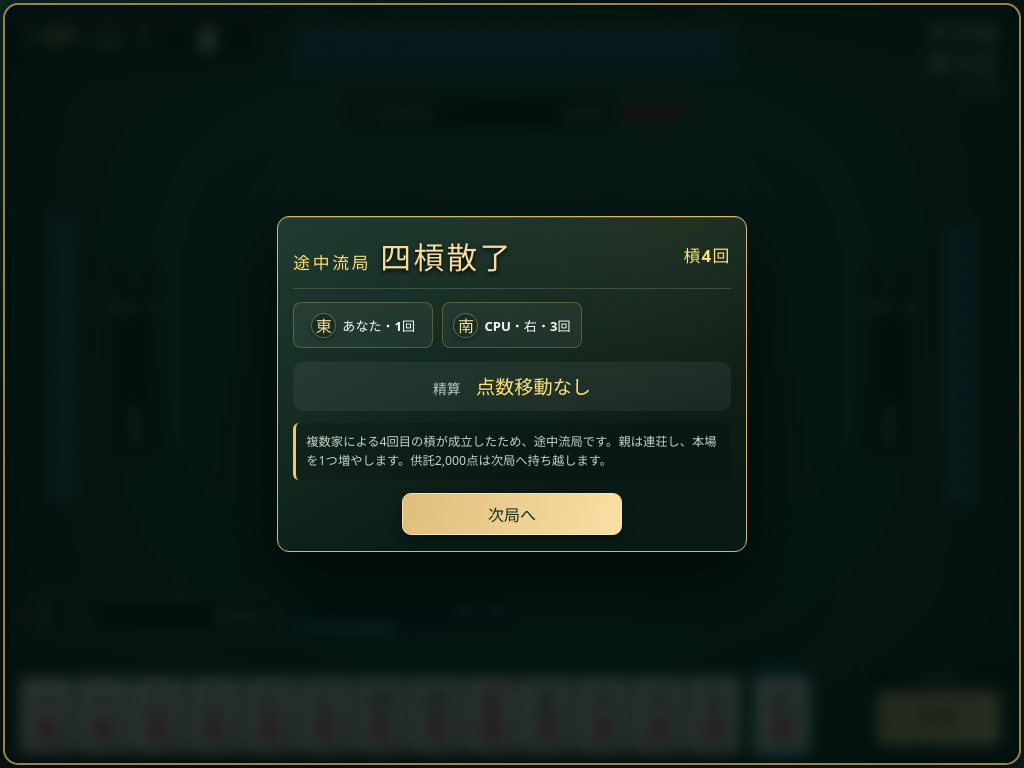
Test: 四槓散了の結果画面 › 次局へ進むと結果画面を閉じて連荘する
Click the button "次局へ". click: (512, 514)
box: [402,493,622,535]
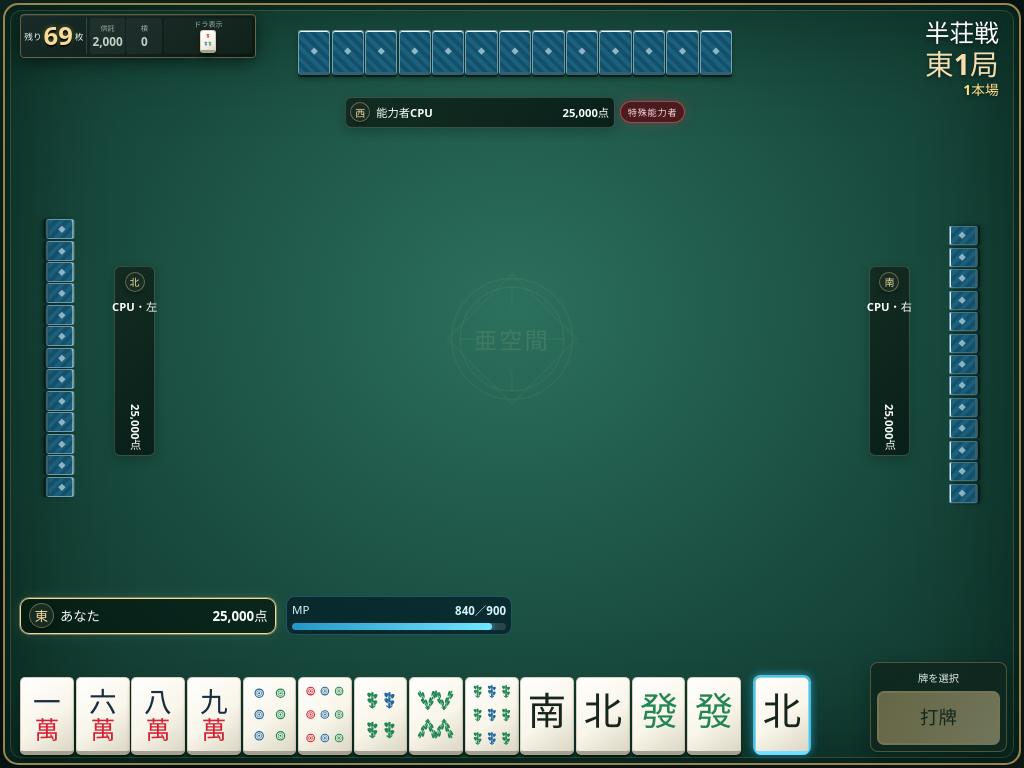
Now the dialog "四槓散了結果" is gone
Now the text "1本場" is shown, box [963,83,999,98]
